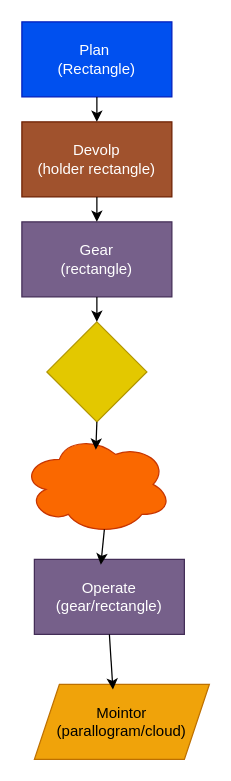
Some shapes in this 231 by 781 pixel diagram are drawn without their labels. The centre of each missing label's shape, as x and y in pixels:
Deploy (cloud/cylinder): point (96, 483)
Diamond (rectangle): point (96, 371)
